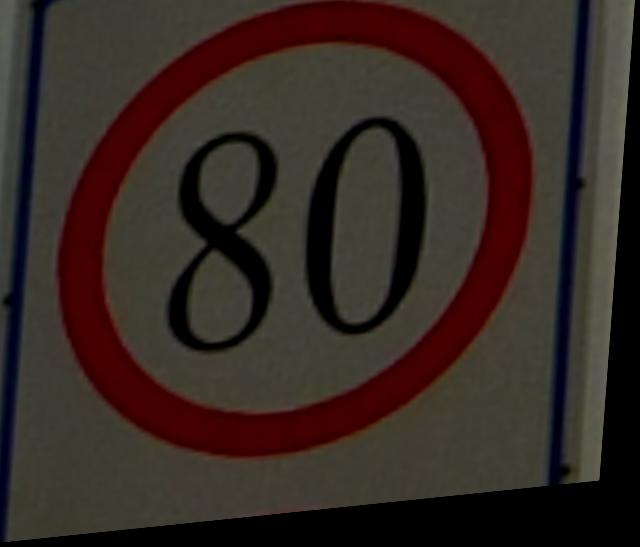limit80: (38, 0, 570, 501)
